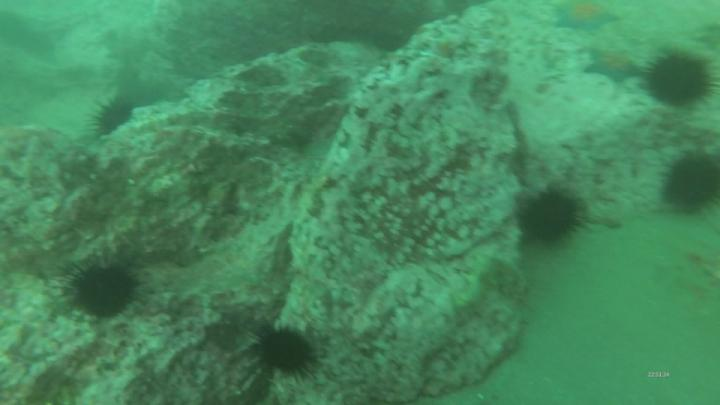echinus: (58, 254, 149, 325), (247, 324, 325, 387), (643, 52, 720, 113), (518, 184, 587, 252), (659, 147, 720, 221), (83, 94, 135, 143)
holothurian: (451, 256, 496, 313)
starfish: (581, 45, 648, 88), (552, 1, 621, 36)
